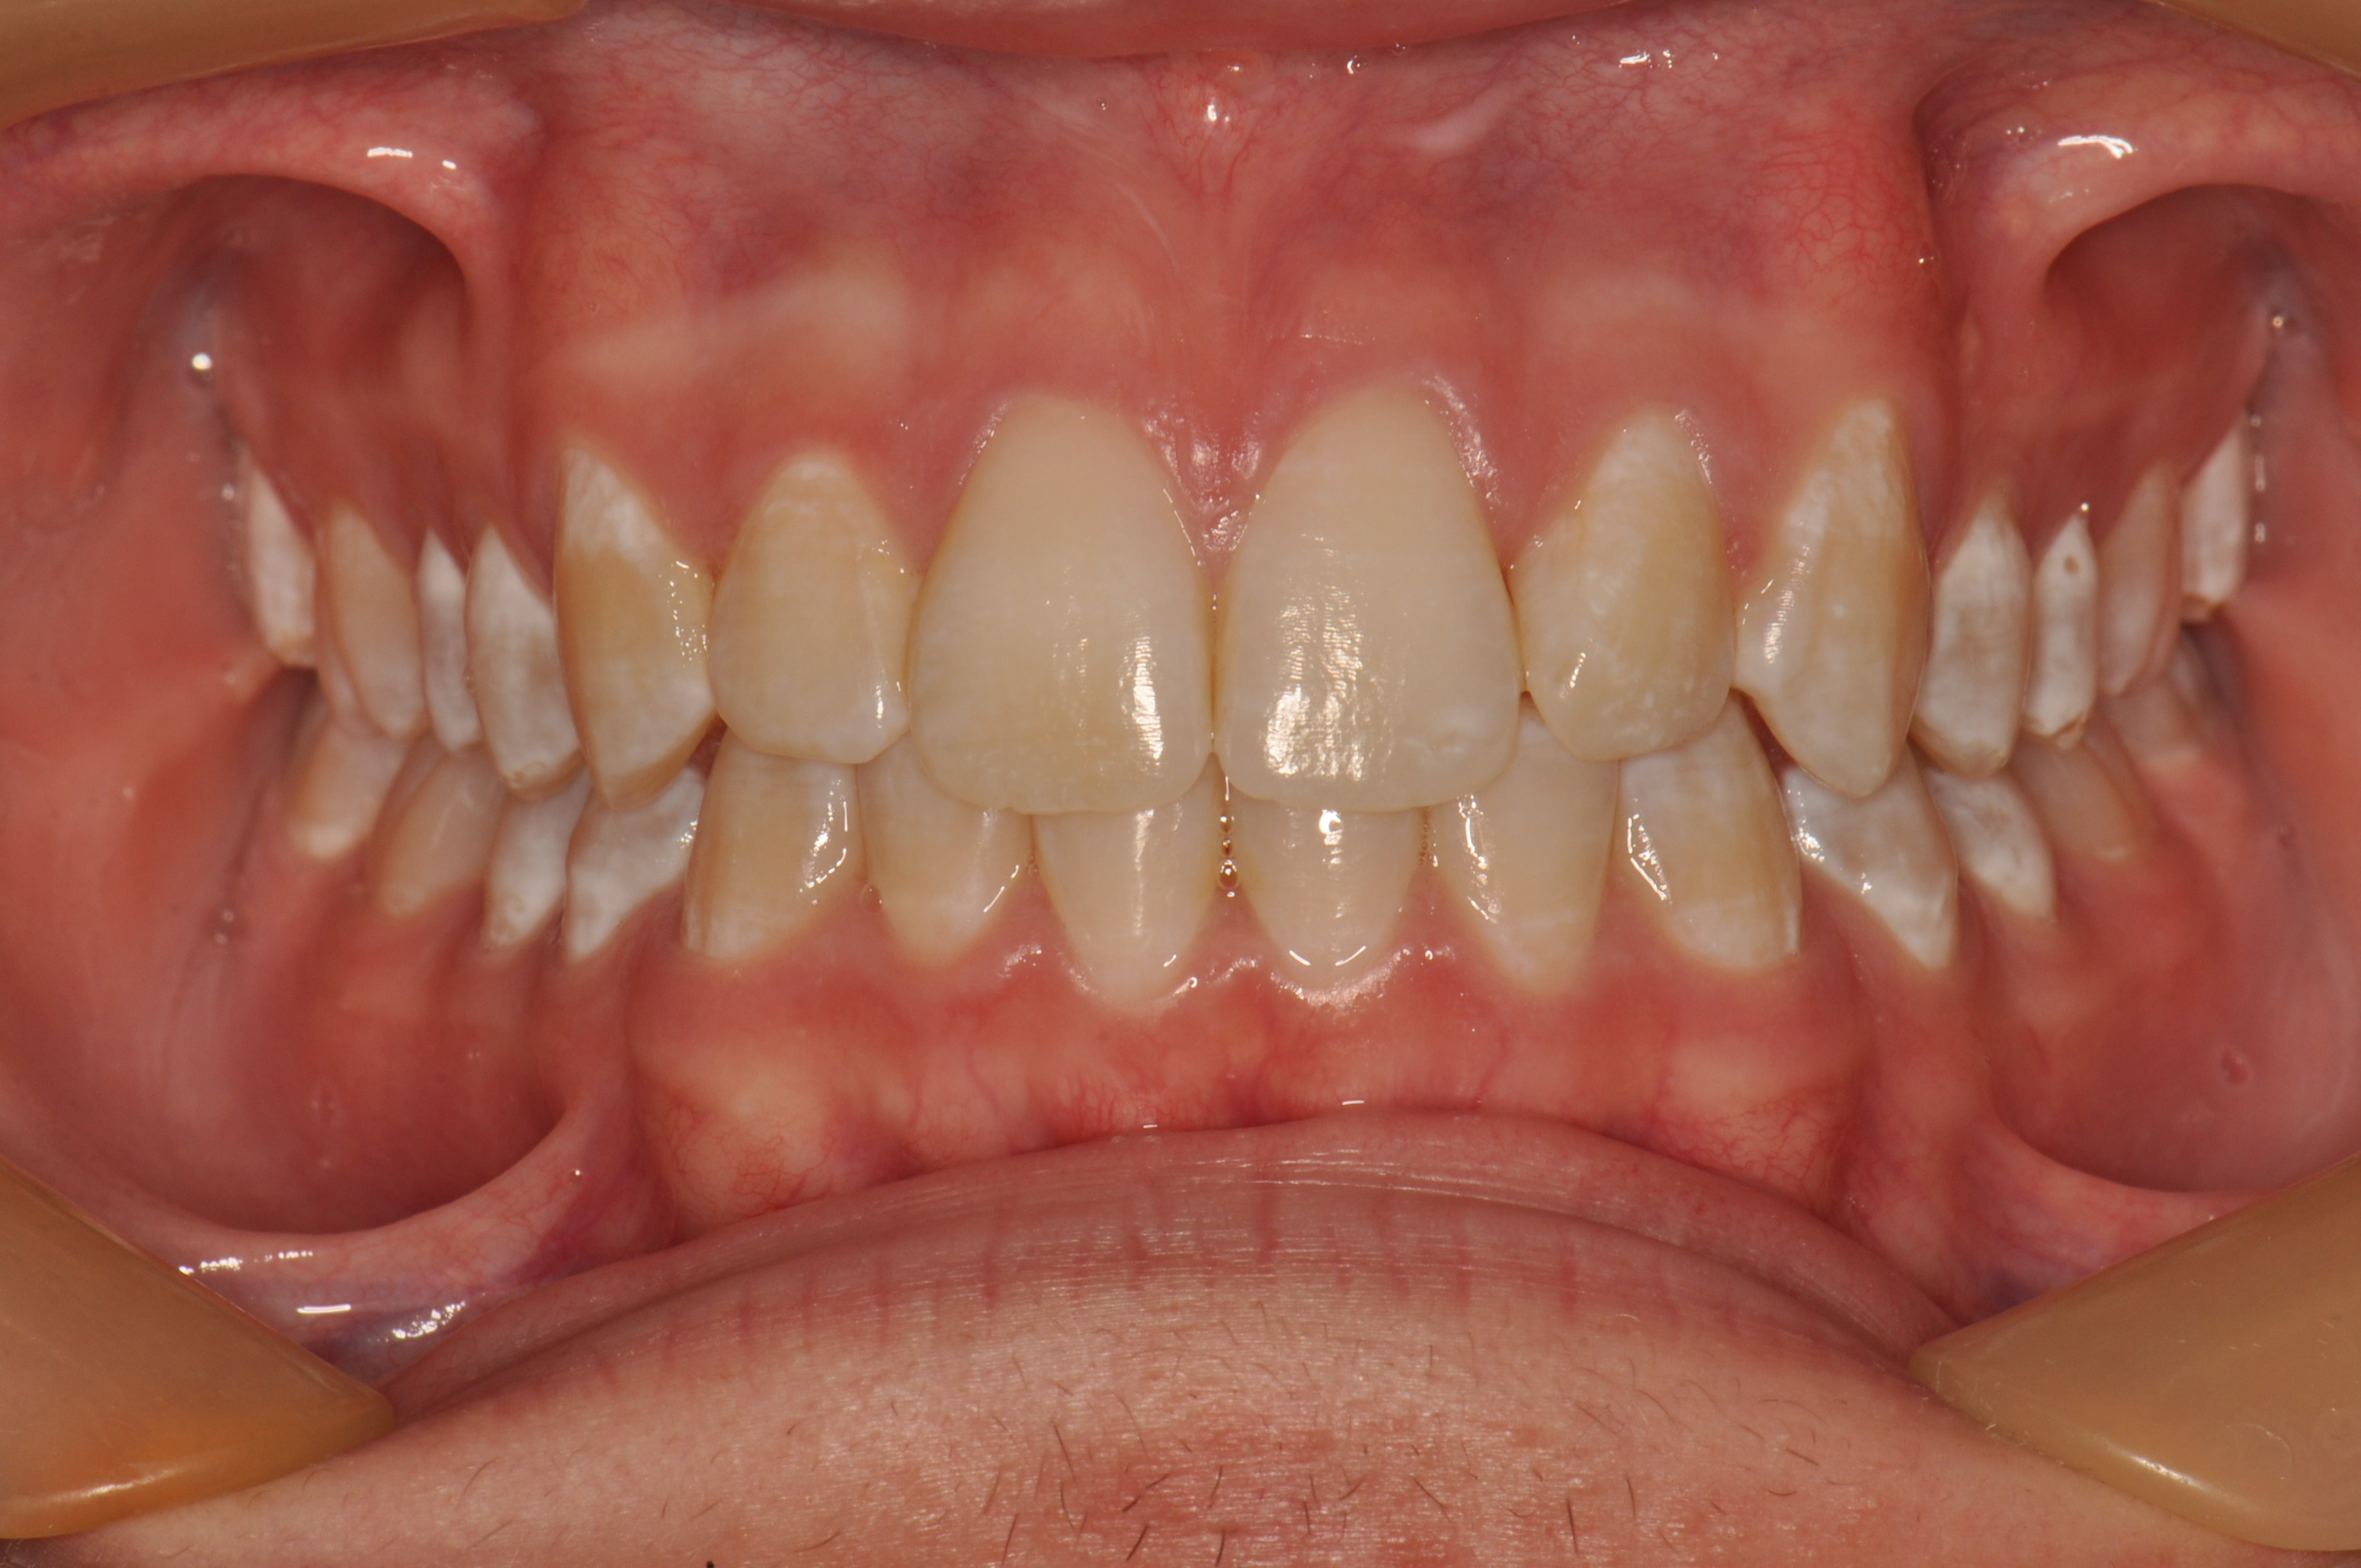LL1BC_mdecay: (1789, 772, 1957, 975)
LL1M_mdecay: (2044, 738, 2151, 857)
LL2BC_mdecay: (1953, 777, 2055, 912)
LL2M_mdecay: (2123, 675, 2221, 763)
LLCI_healthy: (1234, 800, 1423, 980)
LLC_mdecay: (1624, 745, 1801, 962)
LLLI_healthy: (1440, 796, 1608, 983)
LR1BC_mdecay: (567, 796, 684, 954)
LR1M_mdecay: (378, 761, 488, 922)
LR2BC_mdecay: (488, 808, 562, 954)
LR2M_mdecay: (289, 714, 378, 857)
LRCI_healthy: (1034, 815, 1216, 996)
LRC_mdecay: (684, 766, 851, 954)
LRLI_mdecay: (856, 779, 1022, 954)
UL1BC_mdecay: (1932, 507, 2028, 766)
UL1M_mdecay: (2100, 478, 2177, 689)
UL2BC_mdecay: (2032, 530, 2093, 749)
UL2M_mdecay: (2188, 436, 2244, 619)
ULCI_mdecay: (1225, 399, 1516, 796)
ULC_mdecay: (1754, 401, 1918, 784)
ULLI_mdecay: (1530, 430, 1743, 754)
UR1BC_mdecay: (466, 535, 560, 800)
UR1M_mdecay: (319, 518, 417, 730)
UR2BC_mdecay: (422, 544, 464, 752)
UR2M_mdecay: (240, 464, 313, 665)
URCI_mdecay: (922, 401, 1208, 814)
URC_mdecay: (558, 450, 705, 803)
URLI_mdecay: (705, 457, 912, 759)
